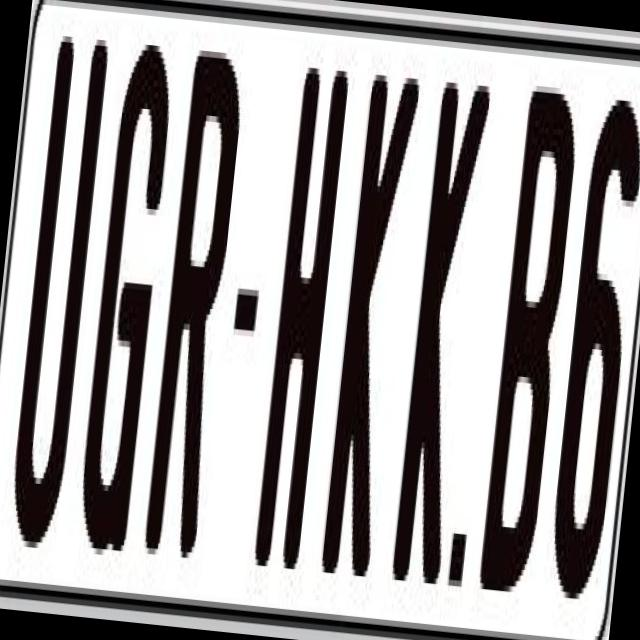6: (540, 97, 640, 623)
B: (473, 79, 585, 612)
G: (69, 36, 179, 575)
H: (248, 67, 353, 592)
K: (391, 70, 498, 579), (317, 62, 418, 582)
U: (5, 36, 109, 556)
